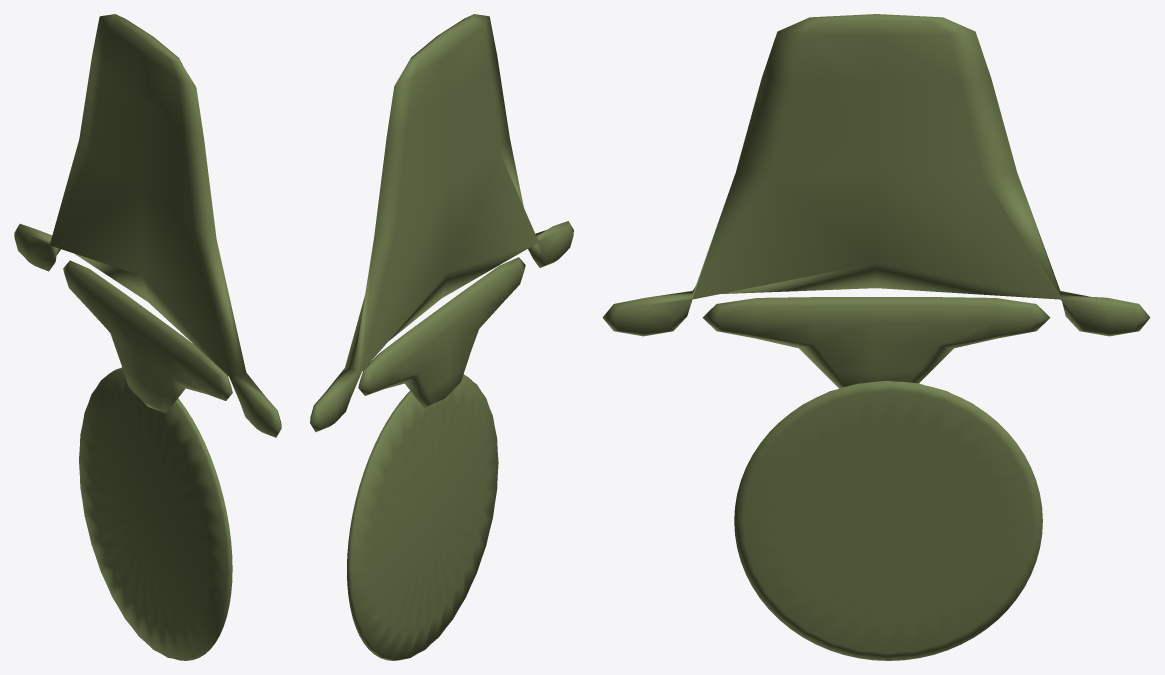
File: Medal.fbx
3 renders of one model, left to right at view 1: azimuth 30°, elevation 25°; view 2: azimuth 150°, elevation 25°; view 3: azimuth 270°, elevation 25°, orthographic. The views are drawn at different scales.
Visible parts, largest first — view 1: Medal; view 2: Medal; view 3: Medal.
Boxes of the visible parts, x1=… form: Medal: x1=14, y1=14, x2=281, y2=660; Medal: x1=310, y1=14, x2=573, y2=660; Medal: x1=602, y1=14, x2=1150, y2=660.
Size of the model in its own units: 1.66 by 38.15 by 29.64.
